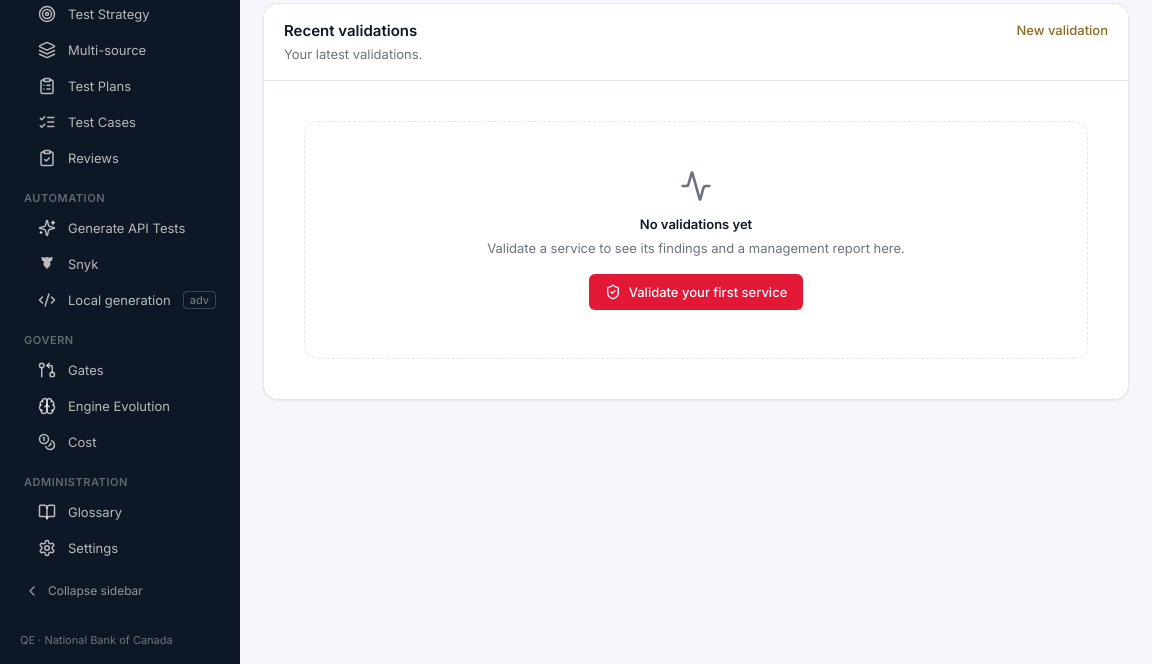
Test case: App shell — navigation changes the route › clicking Cost renders the Costs page heading
The width and height of the screenshot is (1152, 664).
(page scrolled)
Click the link "Cost": click(67, 442) [38,433,96,451]
(page scrolled)
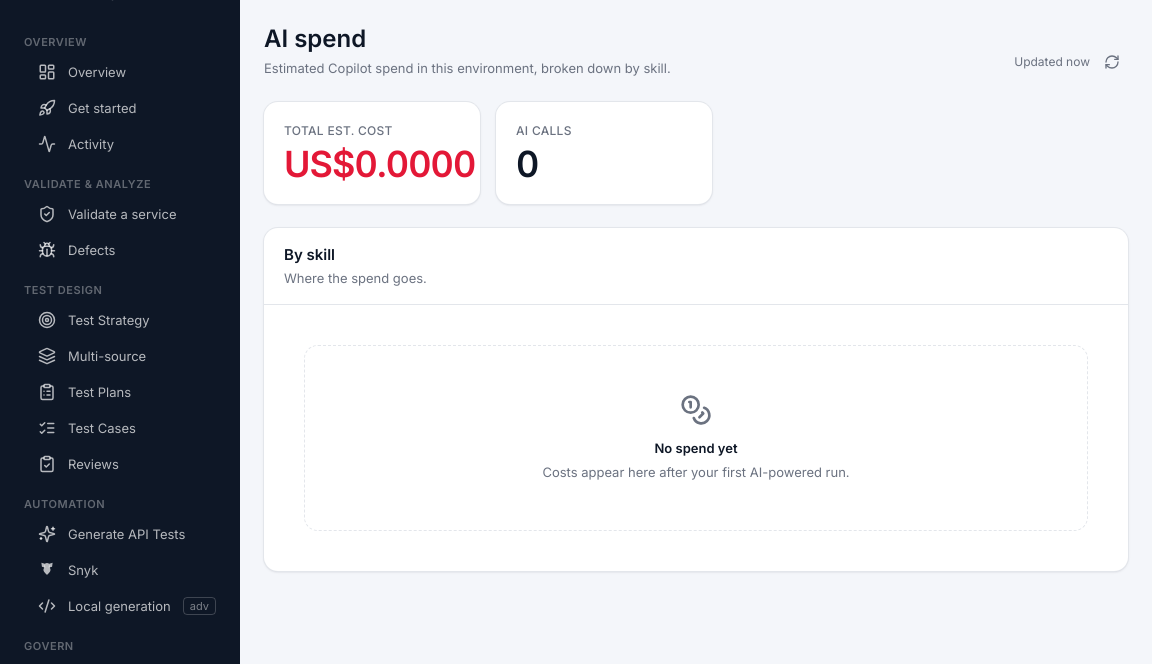
Check: the heading "AI spend" is shown, box [264,24,366,53]
